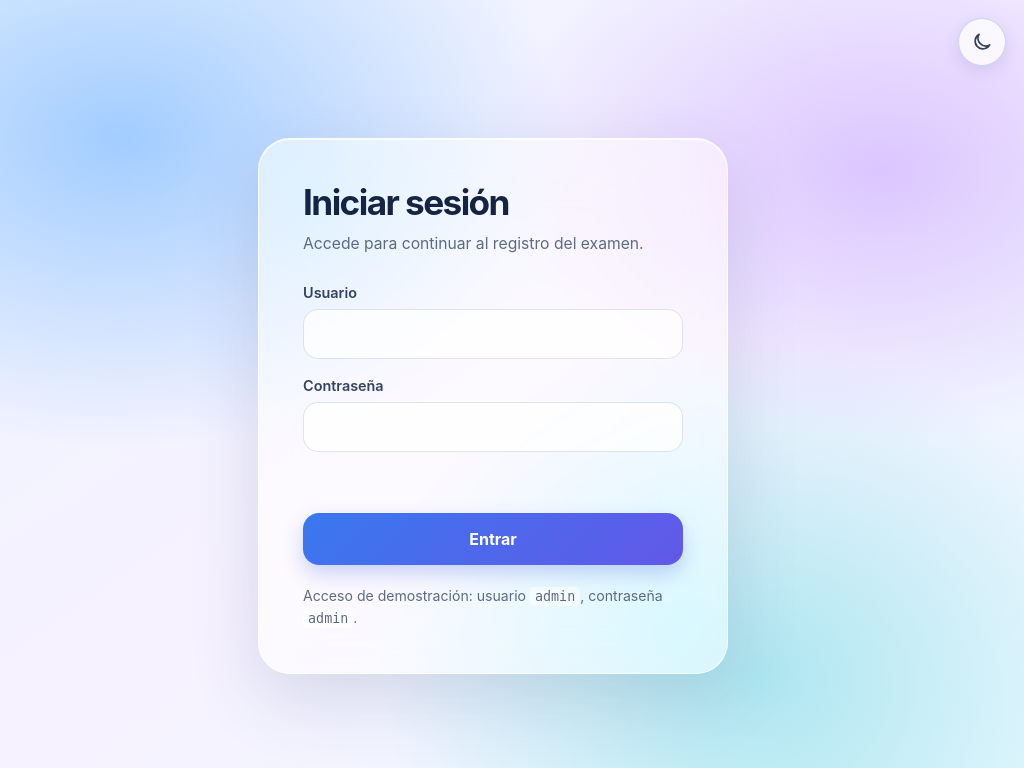
Test case: LoginPage › authenticates with the demo credentials and opens exam registration
The image size is (1024, 768).
In the field labelled "Usuario": [493, 334] box [303,309,683,359], type "admin"
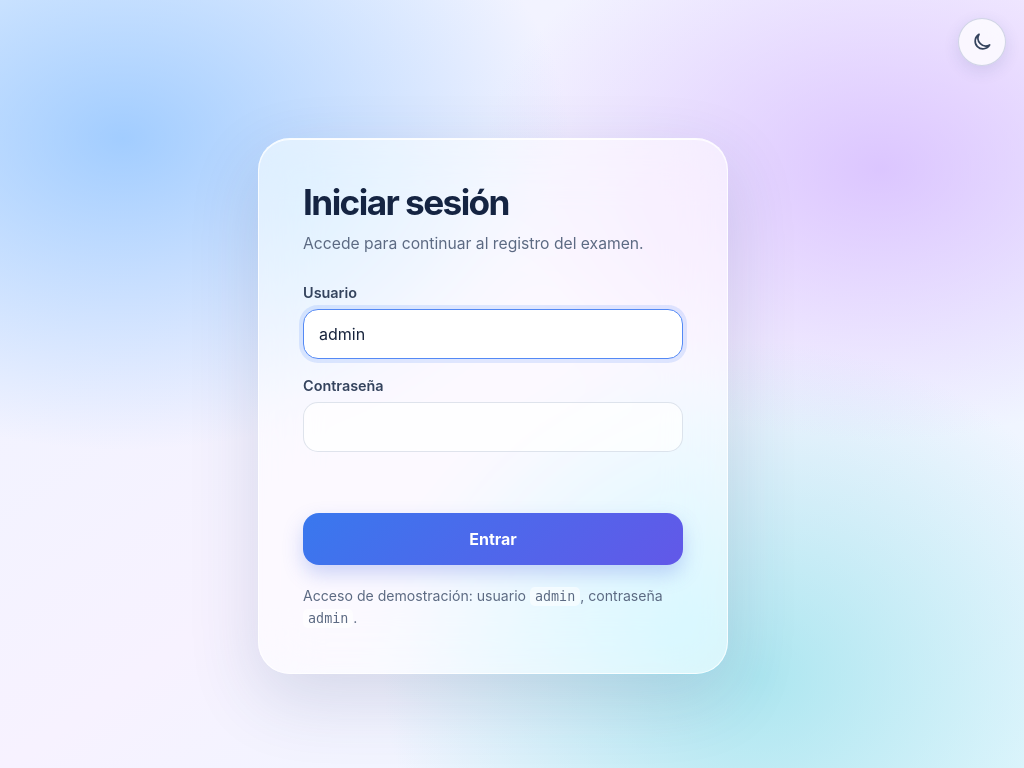
In the password field labelled "Contraseña": [493, 427] box [303,402,683,452], type "admin"
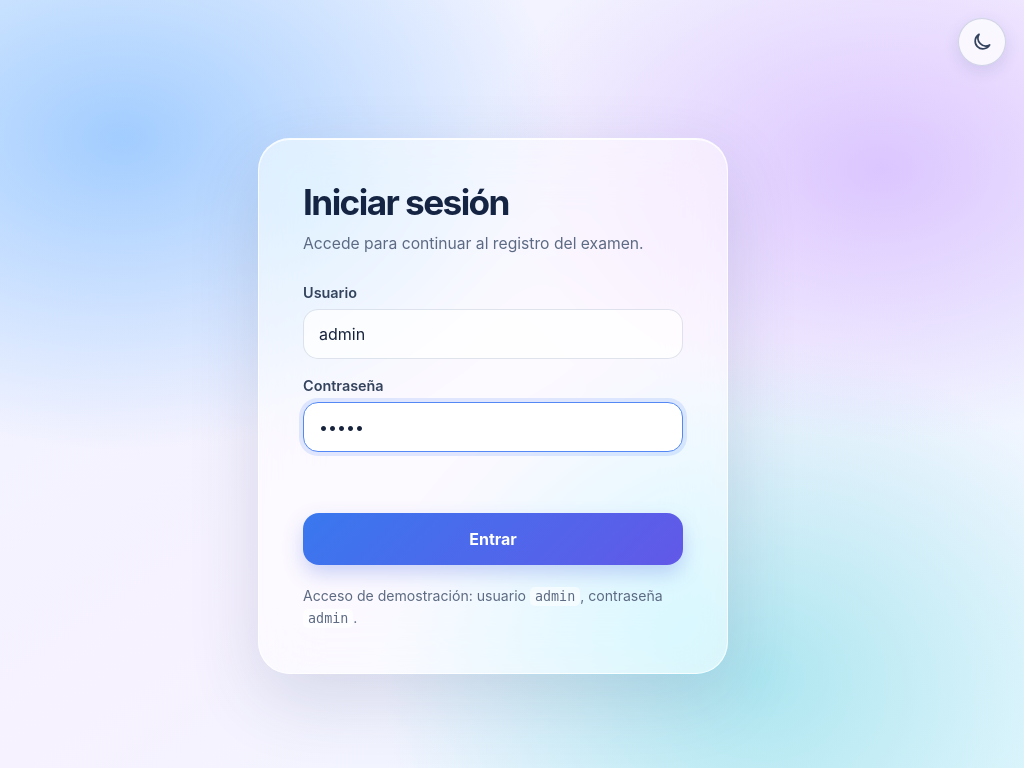
Click the button "Entrar": [493, 539] box [303,513,683,565]
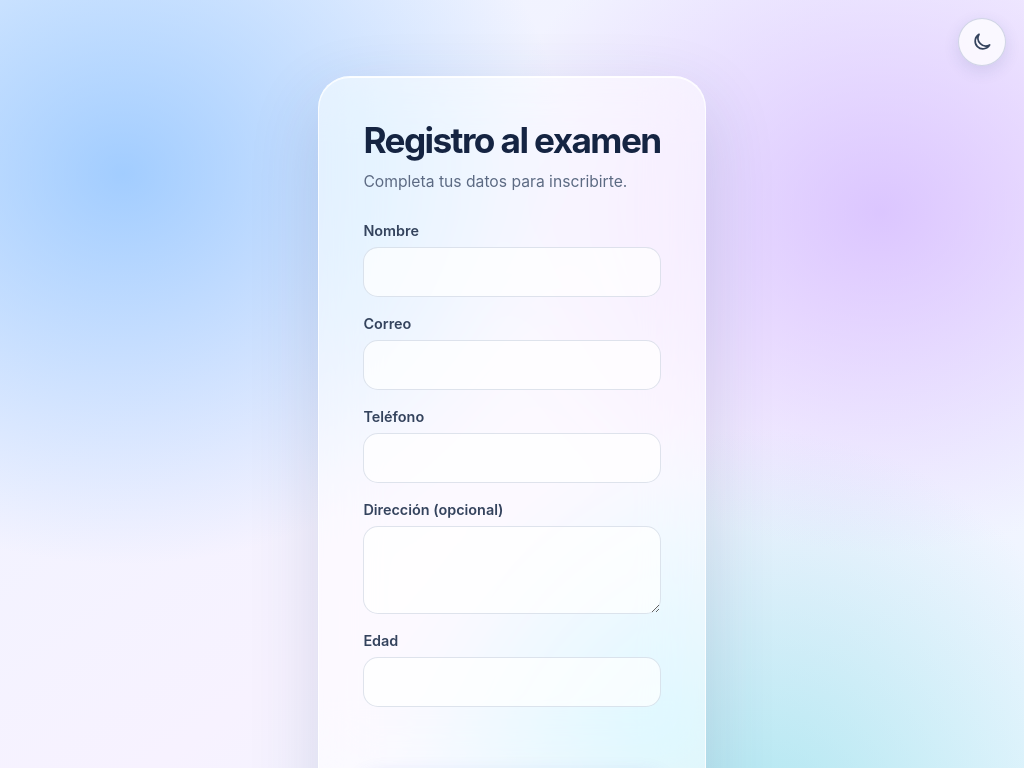
Expected: the heading "Registro al examen" is shown, [363,121,661,160]
